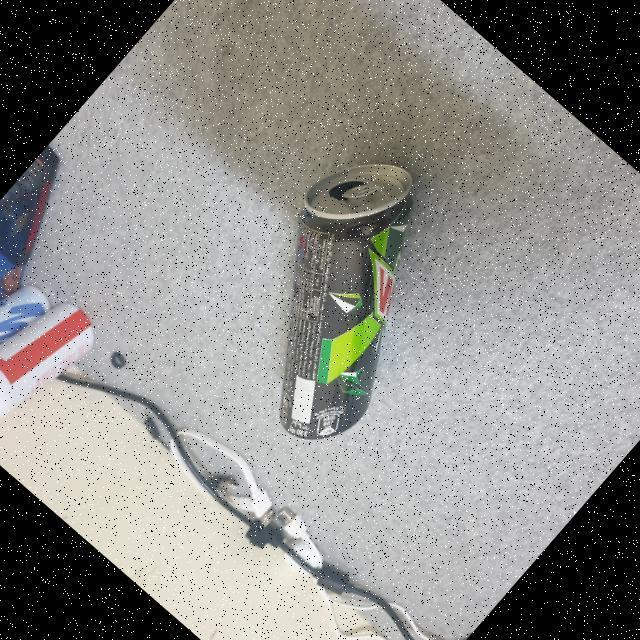can: (163, 113, 520, 480)
